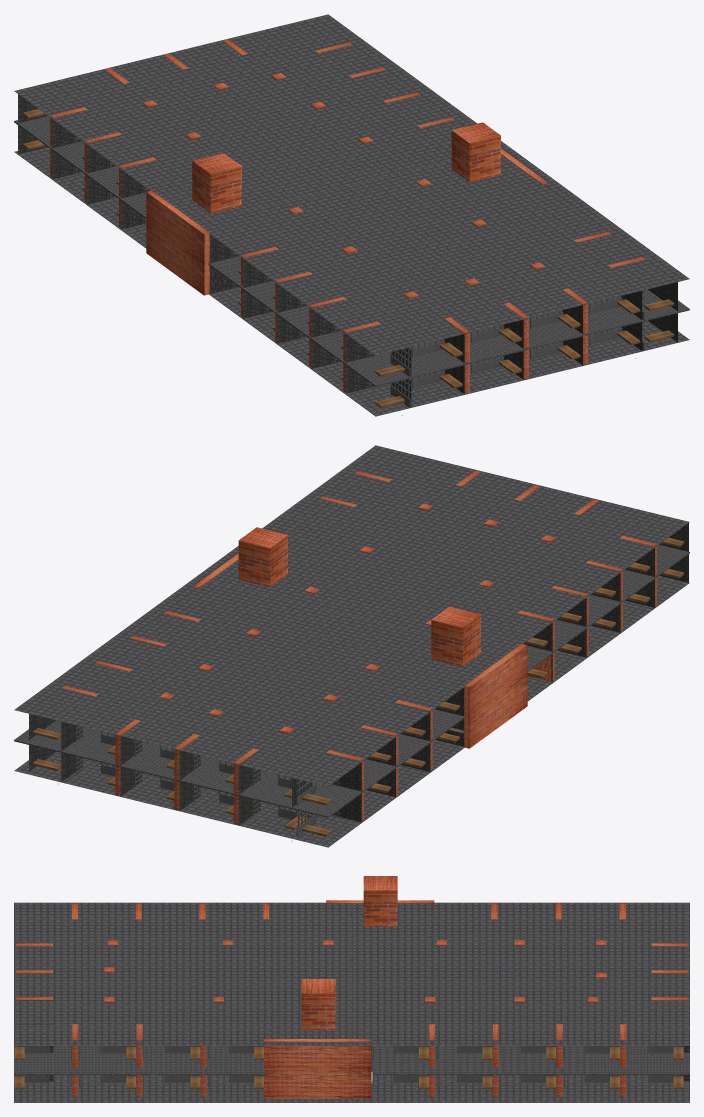
Rendered from Game 54-1 env.fbx.
The picture shows the model from 3 angles, top to bottom: view 1: azimuth 30°, elevation 25°; view 2: azimuth 150°, elevation 25°; view 3: azimuth 270°, elevation 25°; orthographic projection. The views are drawn at different scales.
Visible parts, largest first — view 1: roof, roof_1, floor, piller_15, piller_14, inside_wall_2_23, inside_wall_2_10; view 2: roof, roof_1, floor, piller_15, piller_14, inside_wall_2_23, inside_wall_2_10, jail_74; view 3: roof, roof_1, floor, inside_wall_2_22, inside_wall_2_11, piller_15, piller_14.
Part boxes in pixels (x1=…): roof: x1=14, y1=14, x2=689, y2=355; roof_1: x1=14, y1=116, x2=689, y2=386; floor: x1=14, y1=147, x2=689, y2=416; piller_15: x1=451, y1=122, x2=500, y2=182; piller_14: x1=192, y1=153, x2=241, y2=213; inside_wall_2_23: x1=146, y1=190, x2=209, y2=264; inside_wall_2_10: x1=146, y1=223, x2=209, y2=295; roof: x1=14, y1=445, x2=689, y2=786; roof_1: x1=14, y1=544, x2=689, y2=817; floor: x1=14, y1=575, x2=689, y2=847; piller_15: x1=238, y1=527, x2=287, y2=587; piller_14: x1=431, y1=606, x2=480, y2=666; inside_wall_2_23: x1=464, y1=644, x2=527, y2=718; inside_wall_2_10: x1=464, y1=676, x2=527, y2=748; jail_74: x1=238, y1=765, x2=311, y2=807; roof: x1=14, y1=902, x2=689, y2=1045; roof_1: x1=14, y1=1046, x2=689, y2=1075; floor: x1=14, y1=1052, x2=689, y2=1102; inside_wall_2_22: x1=264, y1=1039, x2=371, y2=1070; inside_wall_2_11: x1=264, y1=1070, x2=371, y2=1098; piller_15: x1=301, y1=979, x2=335, y2=1029; piller_14: x1=363, y1=876, x2=397, y2=926.
Bounding box in the file's own units: 1014 × 327 × 1993.
Materials: 132 (132 with a texture image).
